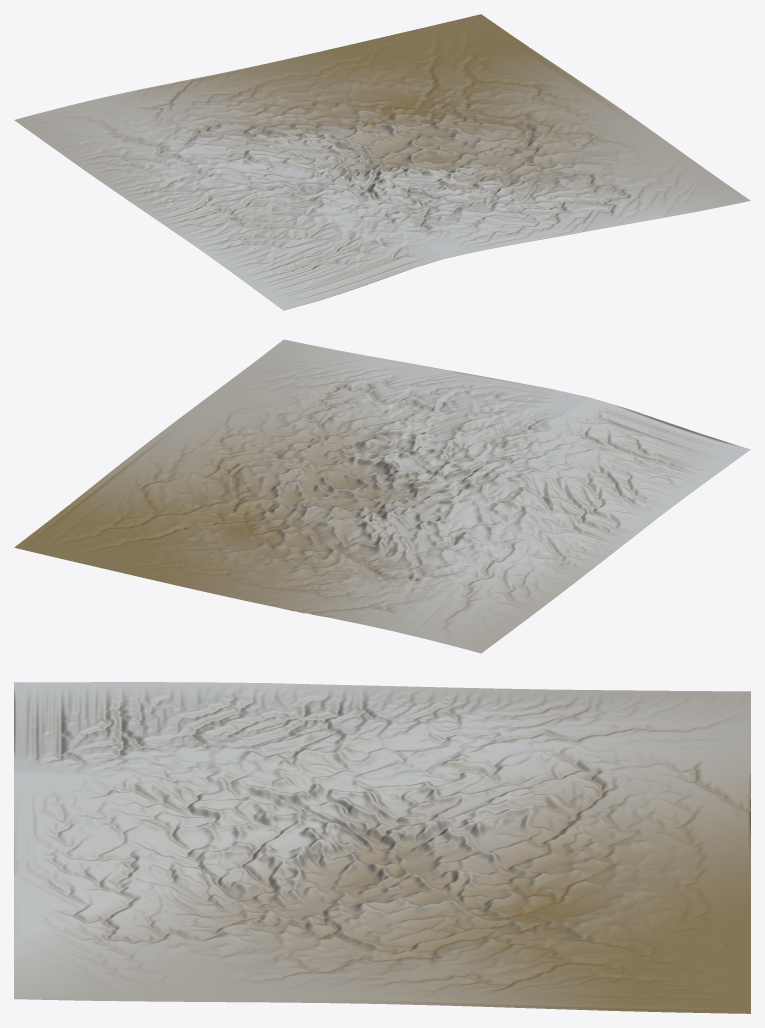
The model's file is mountain.gltf.
The picture shows the model from 3 angles, top to bottom: view 1: azimuth 30°, elevation 25°; view 2: azimuth 150°, elevation 25°; view 3: azimuth 270°, elevation 25°; orthographic projection. The views are drawn at different scales.
Parts seen in each view (by area): view 1: eroded mountain quadrant 3, eroded mountain quadrant 2, eroded mountain quadrant 1, eroded mountain quadrant 4; view 2: eroded mountain quadrant 3, eroded mountain quadrant 1, eroded mountain quadrant 4, eroded mountain quadrant 2; view 3: eroded mountain quadrant 4, eroded mountain quadrant 1, eroded mountain quadrant 2, eroded mountain quadrant 3.
Boxes of the visible parts, x1=… form: eroded mountain quadrant 3: x1=149, y1=164, x2=516, y2=310; eroded mountain quadrant 2: x1=248, y1=14, x2=615, y2=163; eroded mountain quadrant 1: x1=14, y1=67, x2=382, y2=214; eroded mountain quadrant 4: x1=383, y1=106, x2=750, y2=243; eroded mountain quadrant 3: x1=382, y1=382, x2=750, y2=550; eroded mountain quadrant 1: x1=247, y1=499, x2=615, y2=653; eroded mountain quadrant 4: x1=149, y1=339, x2=516, y2=499; eroded mountain quadrant 2: x1=14, y1=441, x2=381, y2=600; eroded mountain quadrant 4: x1=14, y1=825, x2=381, y2=1003; eroded mountain quadrant 1: x1=381, y1=686, x2=750, y2=853; eroded mountain quadrant 2: x1=381, y1=843, x2=750, y2=1013; eroded mountain quadrant 3: x1=14, y1=682, x2=381, y2=849.
Size of the model in its own units: 63875 by 3577 by 63875.
